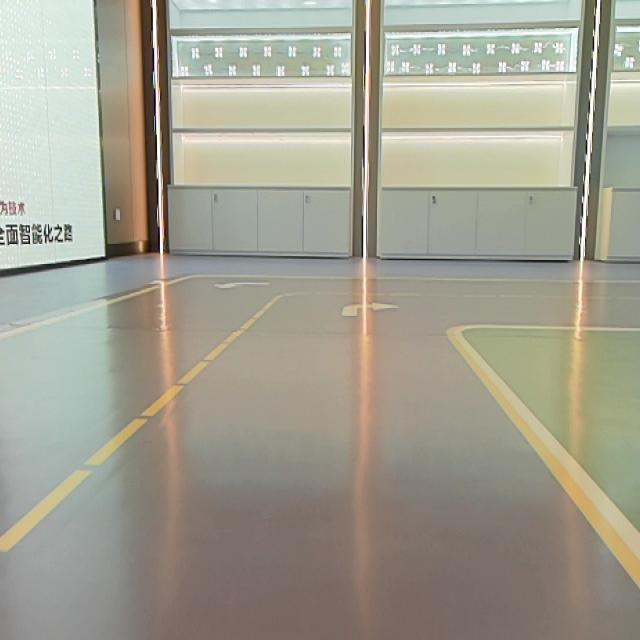left_lane: (5, 293, 283, 557)
right_lane: (458, 344, 640, 592), (4, 277, 181, 340)
